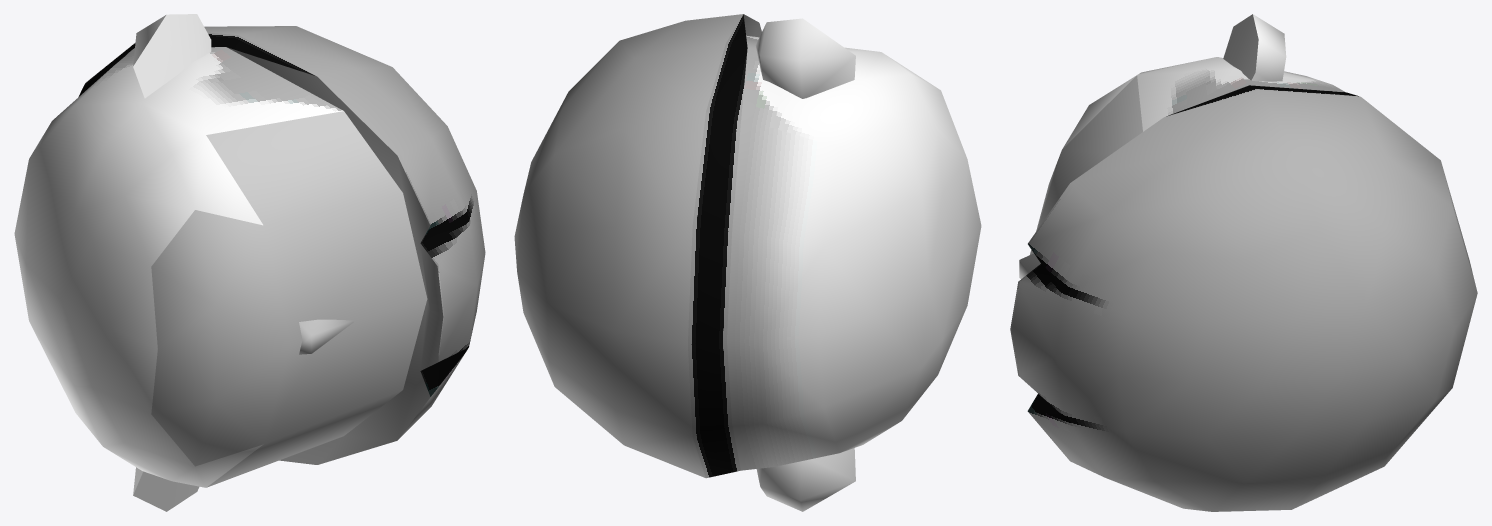
Rendered from boy06a.dae.
3 views of the same model, side by side, from view 1: azimuth 30°, elevation 25°; view 2: azimuth 150°, elevation 25°; view 3: azimuth 270°, elevation 25° (orthographic). The views are drawn at different scales.
Visible parts, largest first — view 1: vsn_mesh_0_, vsn_mesh_1_, vsn_mesh_2_; view 2: vsn_mesh_0_; view 3: vsn_mesh_0_, vsn_mesh_1_.
Boxes of the visible parts, bbox=[...] form: vsn_mesh_0_: bbox=[14, 14, 485, 511]; vsn_mesh_1_: bbox=[206, 111, 427, 487]; vsn_mesh_2_: bbox=[151, 210, 290, 466]; vsn_mesh_0_: bbox=[514, 14, 981, 511]; vsn_mesh_0_: bbox=[1010, 14, 1477, 511]; vsn_mesh_1_: bbox=[1019, 75, 1142, 278].
Bounding box in the file's own units: 21.58 × 26.71 × 23.3.
